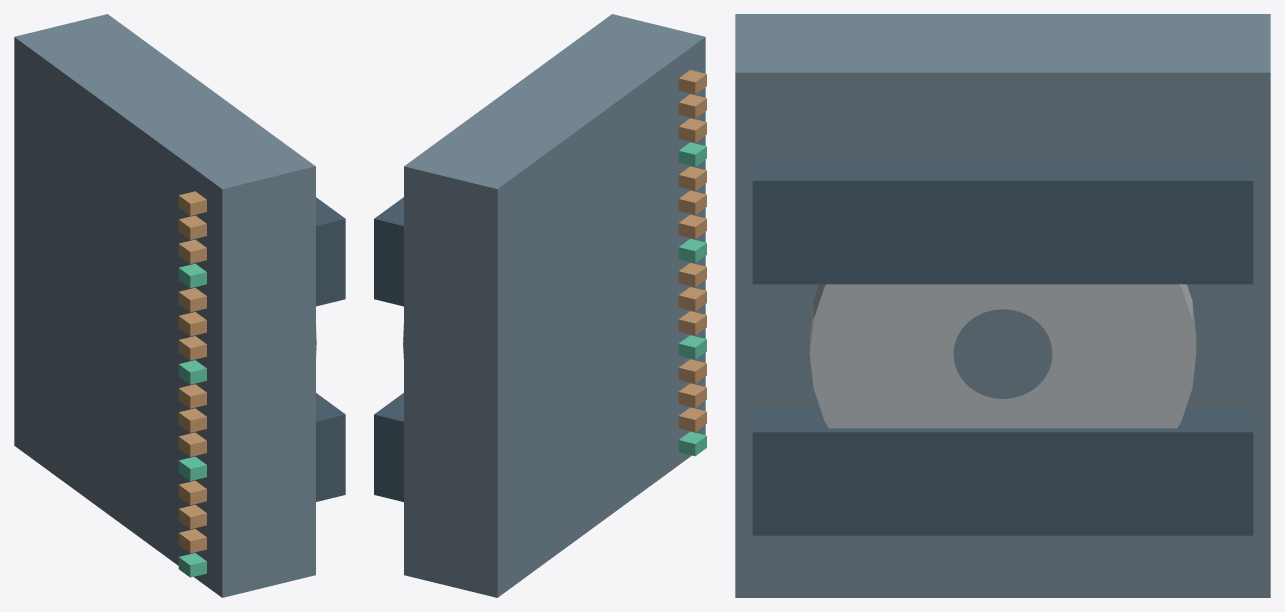
The model's file is 09_L75_MassResolvingAperture.glb.
3 renders of one model, left to right at view 1: azimuth 30°, elevation 25°; view 2: azimuth 150°, elevation 25°; view 3: azimuth 270°, elevation 25°, orthographic. The views are drawn at different scales.
Visible parts, largest first — view 1: MassResolvingAperture_Node_0000, MassResolvingAperture_Node_0002, MassResolvingAperture_Node_0001, MassResolvingAperture_Node_0009, MassResolvingAperture_Node_0011, MassResolvingAperture_Node_0016, MassResolvingAperture_Node_0018, MassResolvingAperture_Node_0005, MassResolvingAperture_Node_0007, MassResolvingAperture_Node_0008, MassResolvingAperture_Node_0010, MassResolvingAperture_Node_0013 (+7 smaller); view 2: MassResolvingAperture_Node_0000, MassResolvingAperture_Node_0002, MassResolvingAperture_Node_0001, MassResolvingAperture_Node_0011, MassResolvingAperture_Node_0006, MassResolvingAperture_Node_0007, MassResolvingAperture_Node_0009, MassResolvingAperture_Node_0010, MassResolvingAperture_Node_0012, MassResolvingAperture_Node_0014, MassResolvingAperture_Node_0016, MassResolvingAperture_Node_0018 (+7 smaller); view 3: MassResolvingAperture_Node_0000, MassResolvingAperture_Node_0002, MassResolvingAperture_Node_0001, MassResolvingAperture_Node_0003.
Boxes of the visible parts, <box> form: MassResolvingAperture_Node_0000: <box>14,14,315,597</box>; MassResolvingAperture_Node_0002: <box>316,197,345,306</box>; MassResolvingAperture_Node_0001: <box>316,393,345,501</box>; MassResolvingAperture_Node_0009: <box>178,432,206,456</box>; MassResolvingAperture_Node_0011: <box>178,384,206,408</box>; MassResolvingAperture_Node_0016: <box>178,263,206,288</box>; MassResolvingAperture_Node_0018: <box>178,215,206,239</box>; MassResolvingAperture_Node_0005: <box>178,529,206,553</box>; MassResolvingAperture_Node_0007: <box>178,480,206,505</box>; MassResolvingAperture_Node_0008: <box>178,456,206,481</box>; MassResolvingAperture_Node_0010: <box>178,408,206,432</box>; MassResolvingAperture_Node_0013: <box>178,336,206,360</box>; MassResolvingAperture_Node_0000: <box>404,14,705,597</box>; MassResolvingAperture_Node_0002: <box>374,197,403,306</box>; MassResolvingAperture_Node_0001: <box>374,393,403,501</box>; MassResolvingAperture_Node_0011: <box>678,263,706,287</box>; MassResolvingAperture_Node_0006: <box>678,383,706,407</box>; MassResolvingAperture_Node_0007: <box>678,359,706,383</box>; MassResolvingAperture_Node_0009: <box>678,311,706,335</box>; MassResolvingAperture_Node_0010: <box>678,287,706,311</box>; MassResolvingAperture_Node_0012: <box>678,238,706,263</box>; MassResolvingAperture_Node_0014: <box>678,190,706,215</box>; MassResolvingAperture_Node_0016: <box>678,142,706,166</box>; MassResolvingAperture_Node_0018: <box>678,94,706,118</box>; MassResolvingAperture_Node_0000: <box>735,14,1270,597</box>; MassResolvingAperture_Node_0002: <box>752,158,1253,284</box>; MassResolvingAperture_Node_0001: <box>752,409,1253,535</box>; MassResolvingAperture_Node_0003: <box>809,284,1196,428</box>.
Size of the model in its own units: 0.44 by 1.17 by 1.08.
